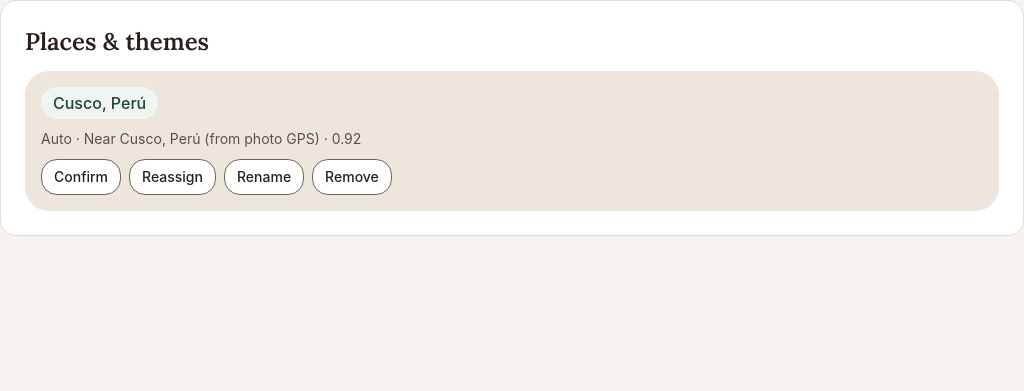
Test: CategoryChips — surfaces a retryable failure when a correction is not saved (#346) › shows an accessible alert with a Try again action when applyCategoryCorrection rejects
Click the button "Confirm" at x=81, y=177, box [41,159,121,195]
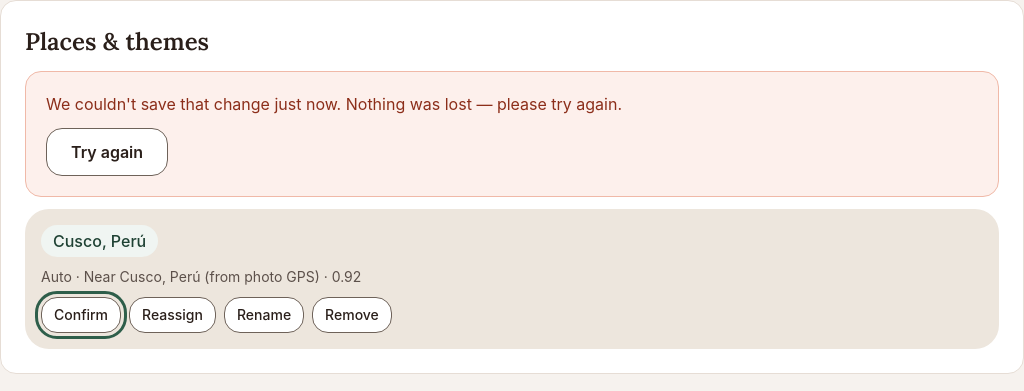
Check: the text "Cusco, Perú" is shown, box [41,225,158,257]
Click the button "Try again" at x=107, y=152, box [46,128,168,176]
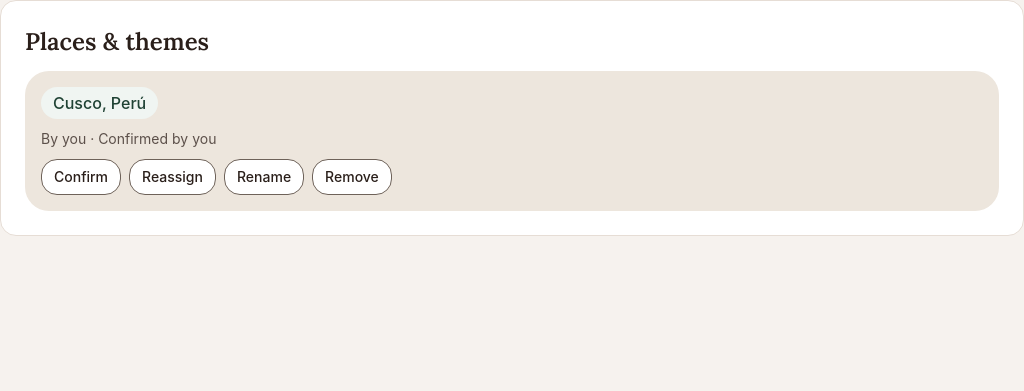
Check: the message "We couldn't save that change just now. Nothing was lost — please try again. Try" is gone
